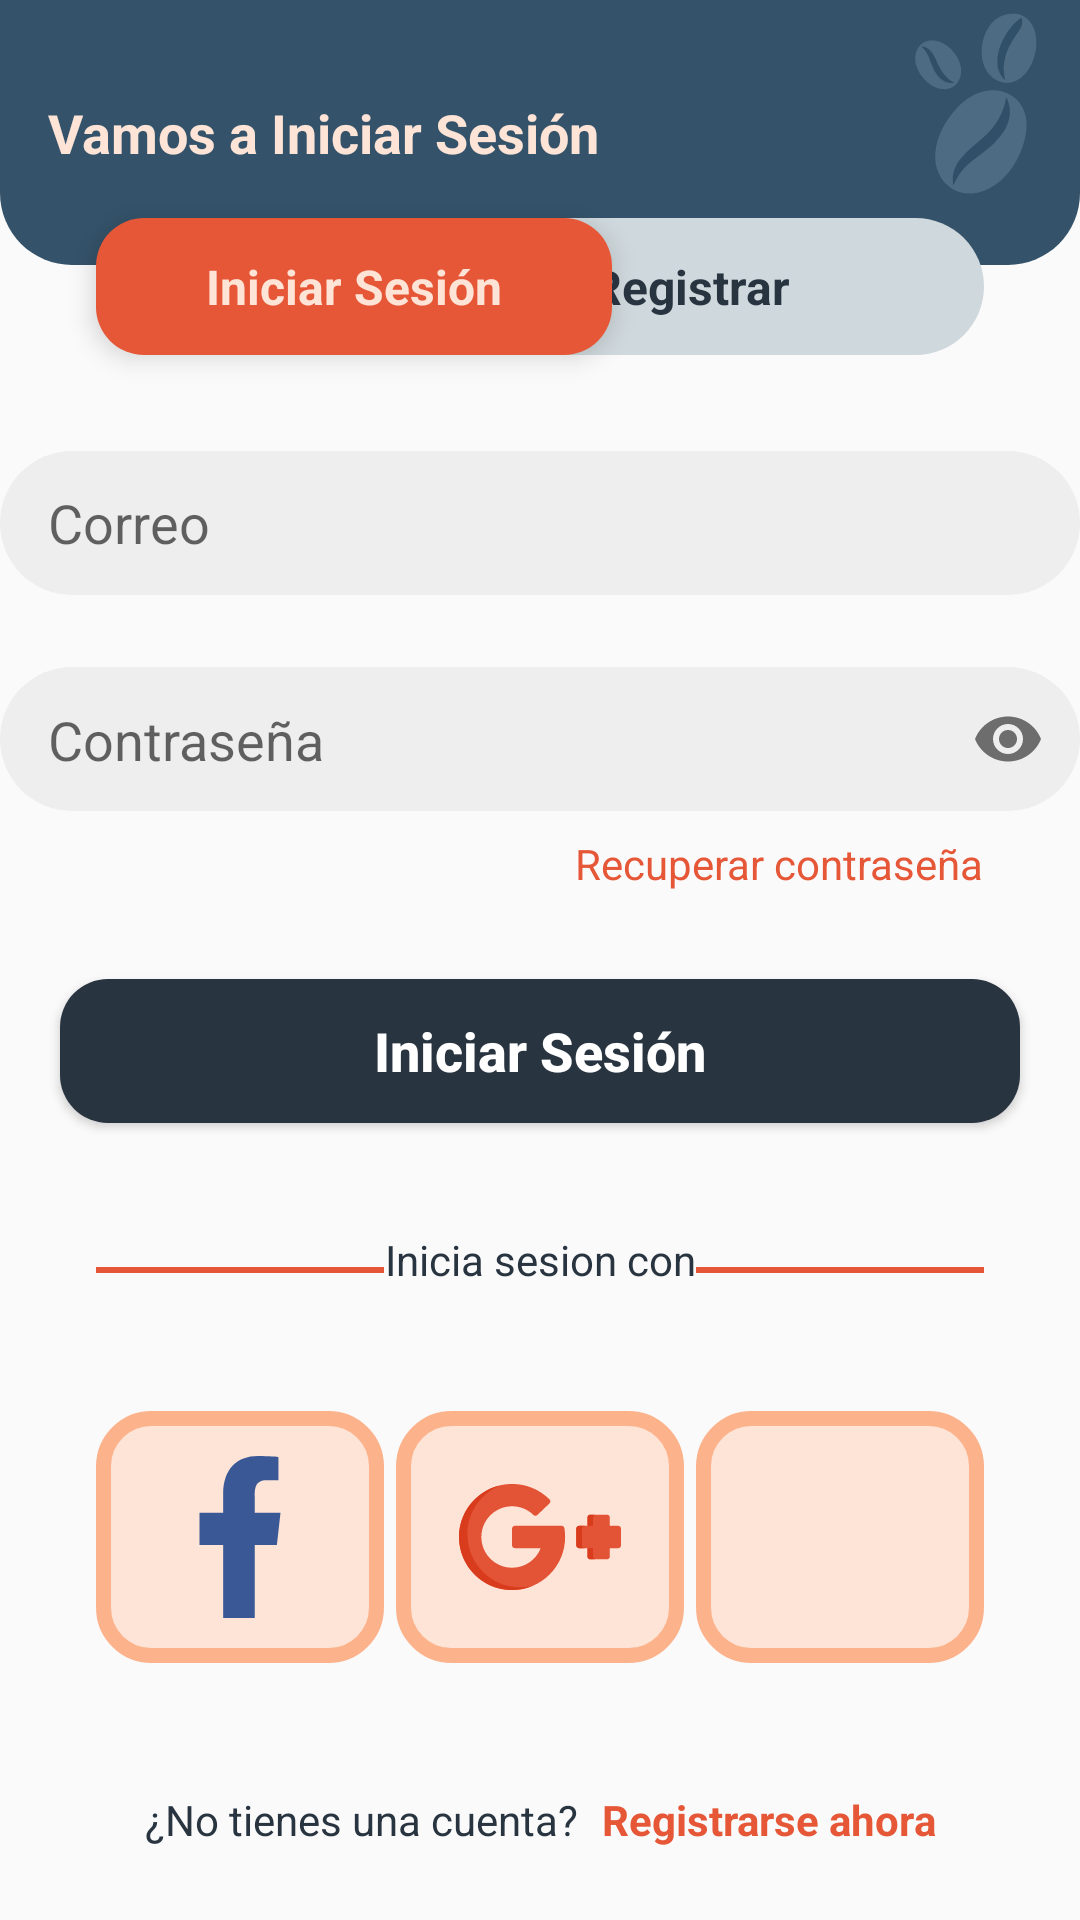

Icons on this 1080 × 1920 Android screen, each with its box as bbox=(x1, y1, x2, y2):
granos cafe: bbox=(916, 14, 1036, 193)
